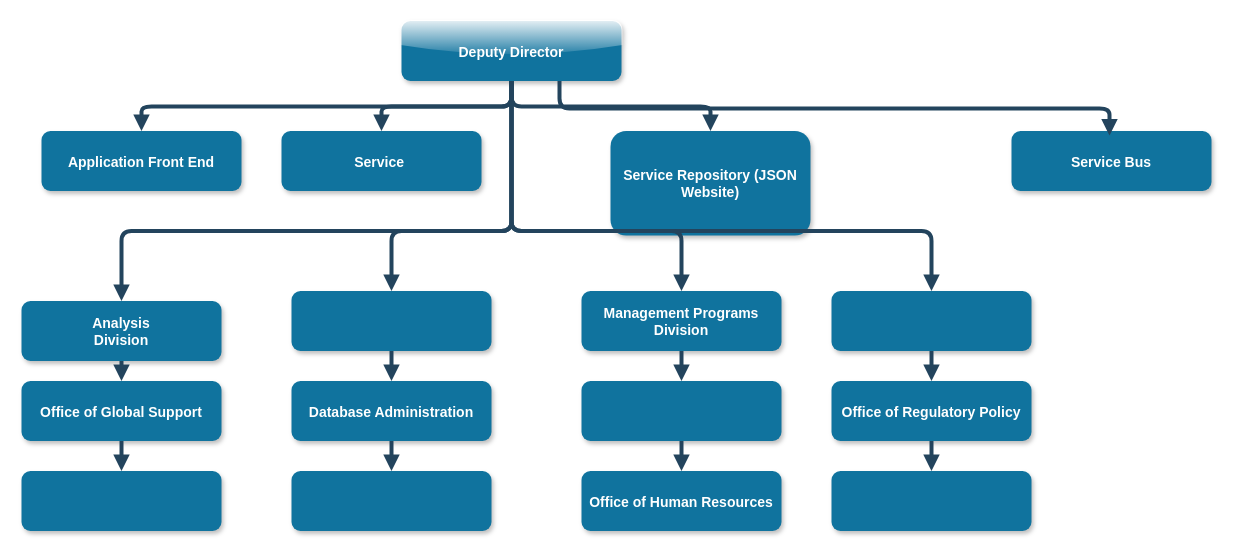
Some shapes in this 1234 by 555 pixel diagram are drawn without their labels. The centre of each missing label's shape, as x and y in pixels:
IT Division: point (392, 322)
Office Compliance: point (932, 502)
Office of Backtrack Analysis: point (122, 502)
Office of Financial Management: point (682, 412)
Office of Technology Research: point (392, 502)
Regulatory and Enforcement Division: point (932, 322)
